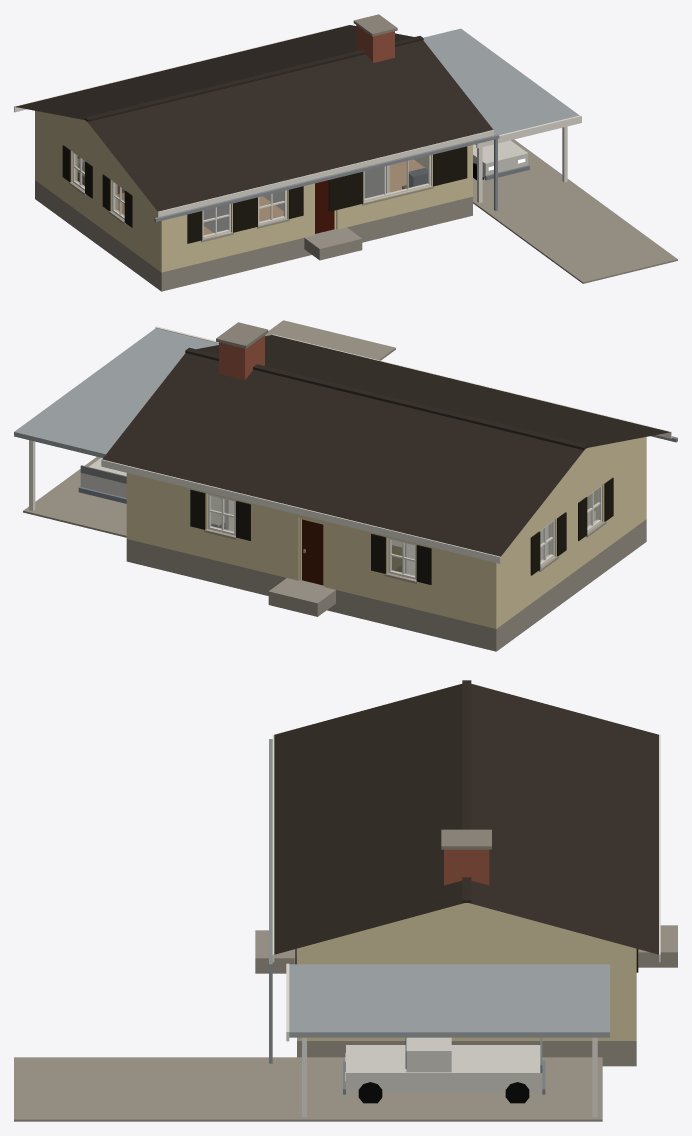
Rendered from ranch_b.glb.
3 renders of one model, top to bottom at view 1: azimuth 30°, elevation 25°; view 2: azimuth 150°, elevation 25°; view 3: azimuth 270°, elevation 25°, orthographic. The views are drawn at different scales.
Parts seen in each view (by area): view 1: LOD0, LEAF0, FURN; view 2: LOD0, LEAF1; view 3: LOD0.
Part boxes in pixels (left/top/right/bottom): LOD0: left=14, top=14, right=677, bottom=291; LEAF0: left=315, top=180, right=334, bottom=233; FURN: left=77, top=156, right=427, bottom=193; LOD0: left=14, top=320, right=677, bottom=651; LEAF1: left=302, top=519, right=323, bottom=585; LOD0: left=14, top=680, right=677, bottom=1121.
Size of what is drawn, in the model's own units: 17.78 by 6.03 by 17.6.
